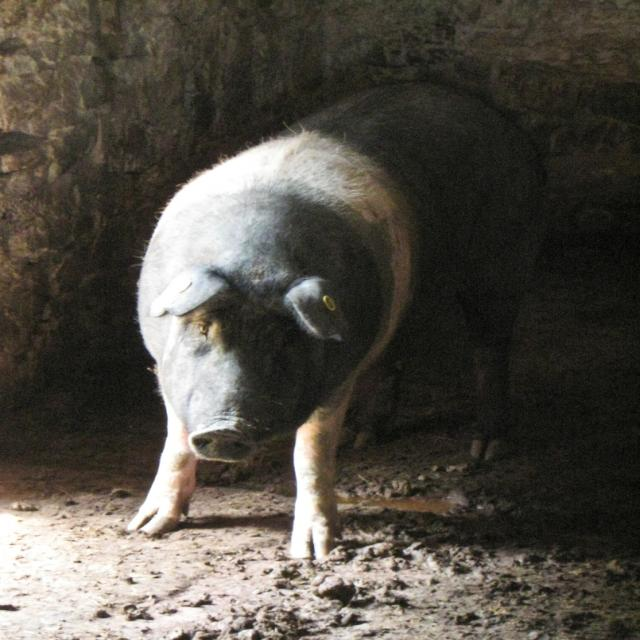Pig: (122, 75, 553, 559)
